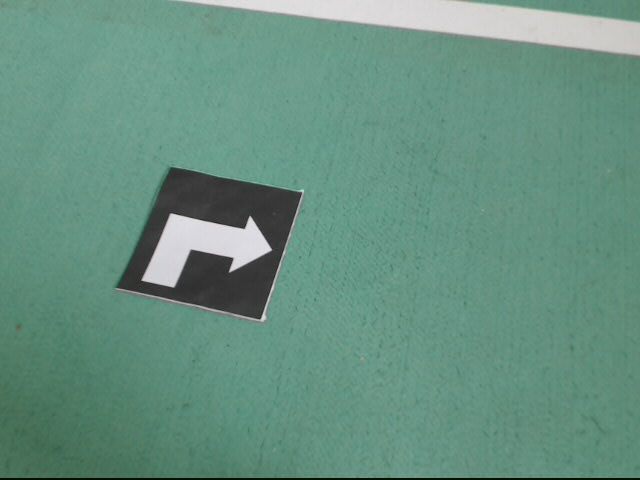right: (118, 167, 303, 322)
